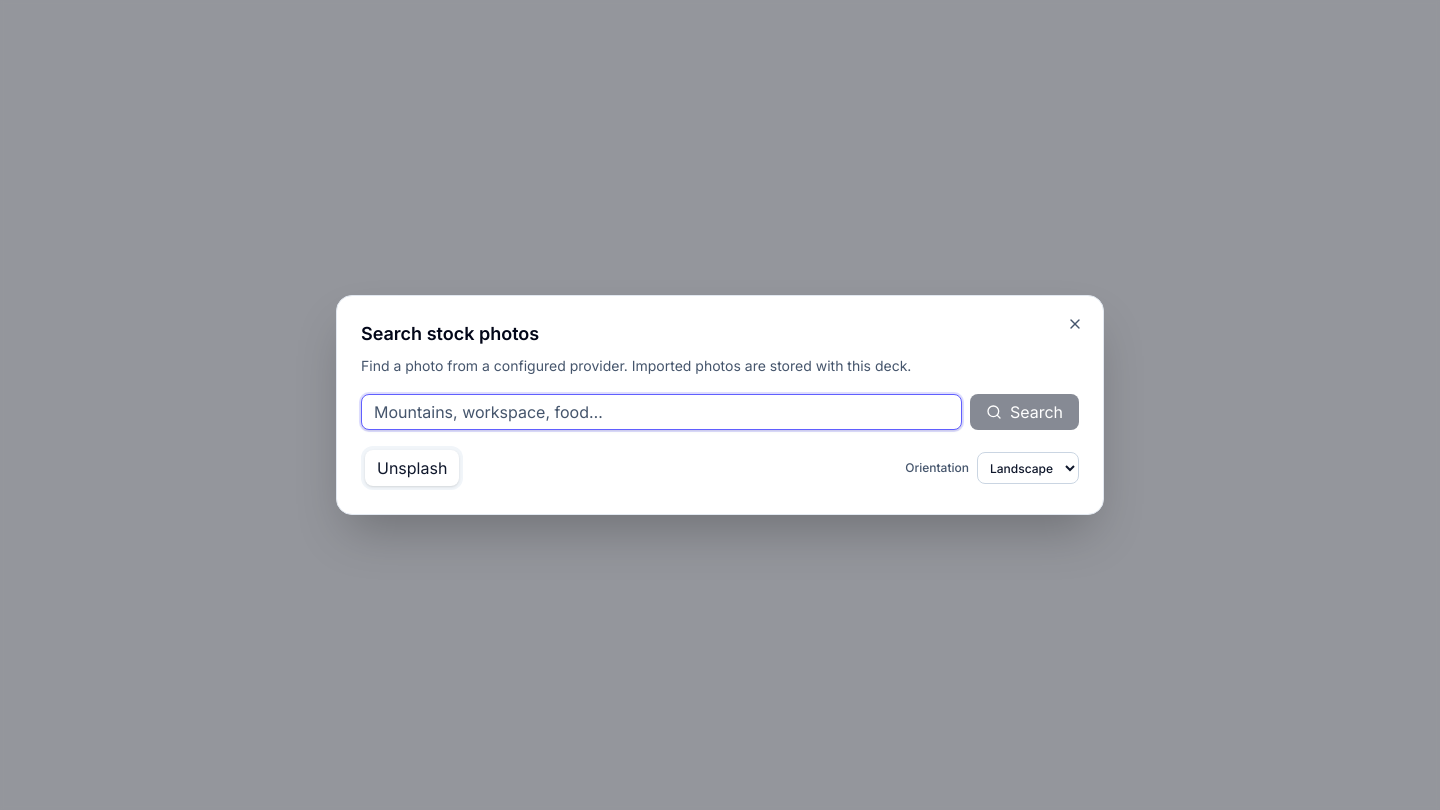
Test: ImageSearchDialog › shows an empty state with the query
Step 1. Type "unicorn" into the field with test id "image-search-input" → (661, 412), box [361,394,962,430]
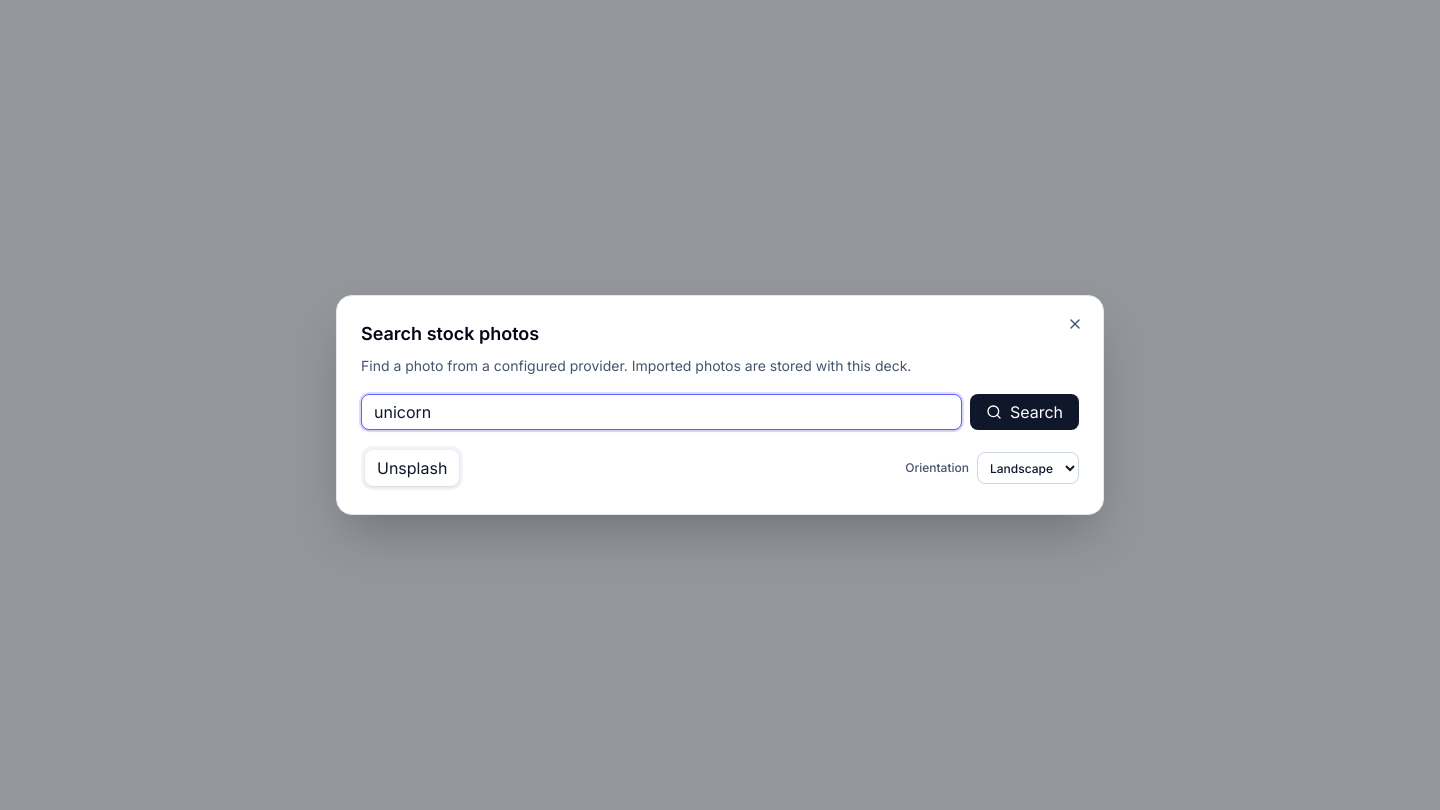
Step 2. Click the button with test id "image-search-submit" → (1024, 412), box [970,394,1079,430]
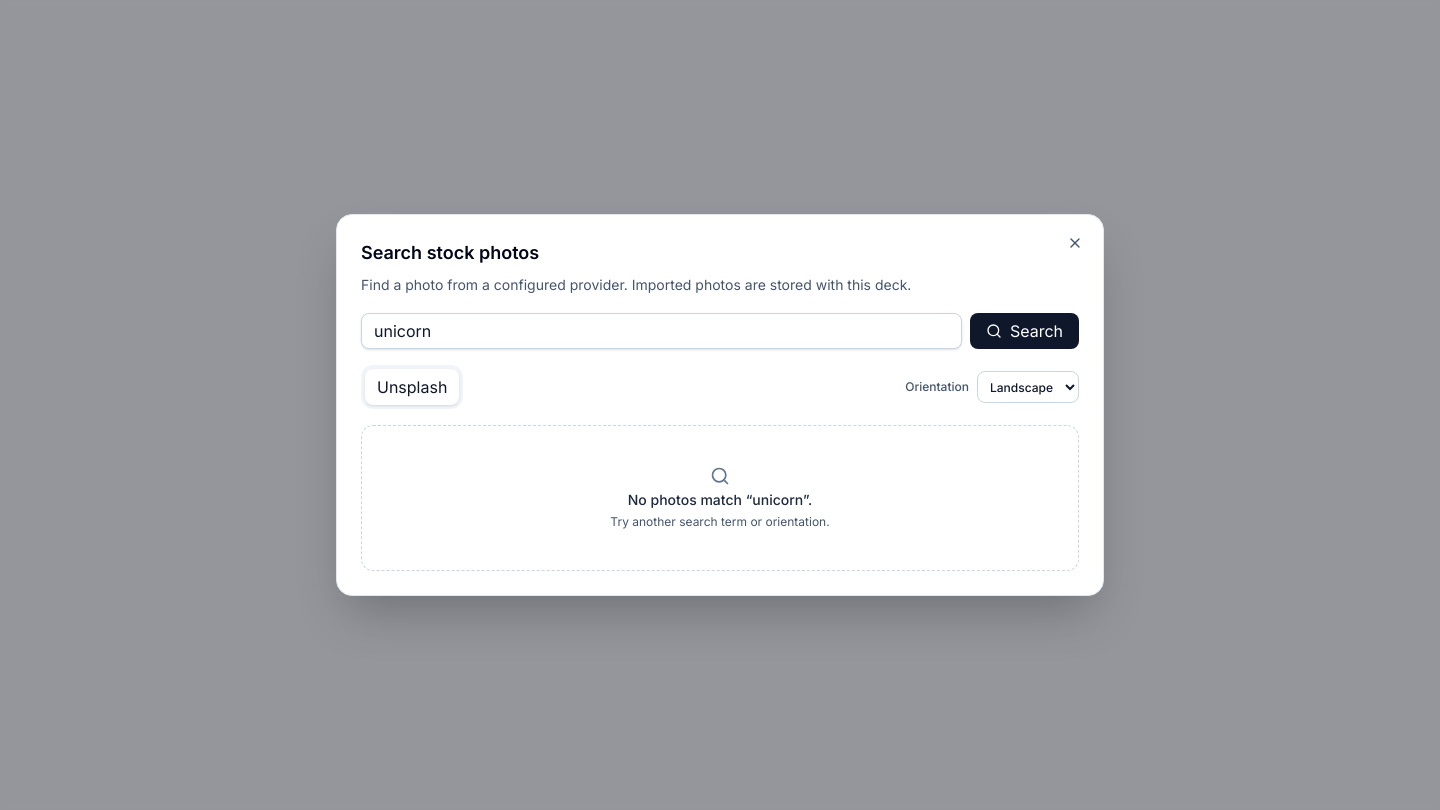
Result: the element with test id "image-search-empty" shows "No photos match “unicorn”." at [628,491,812,508]
